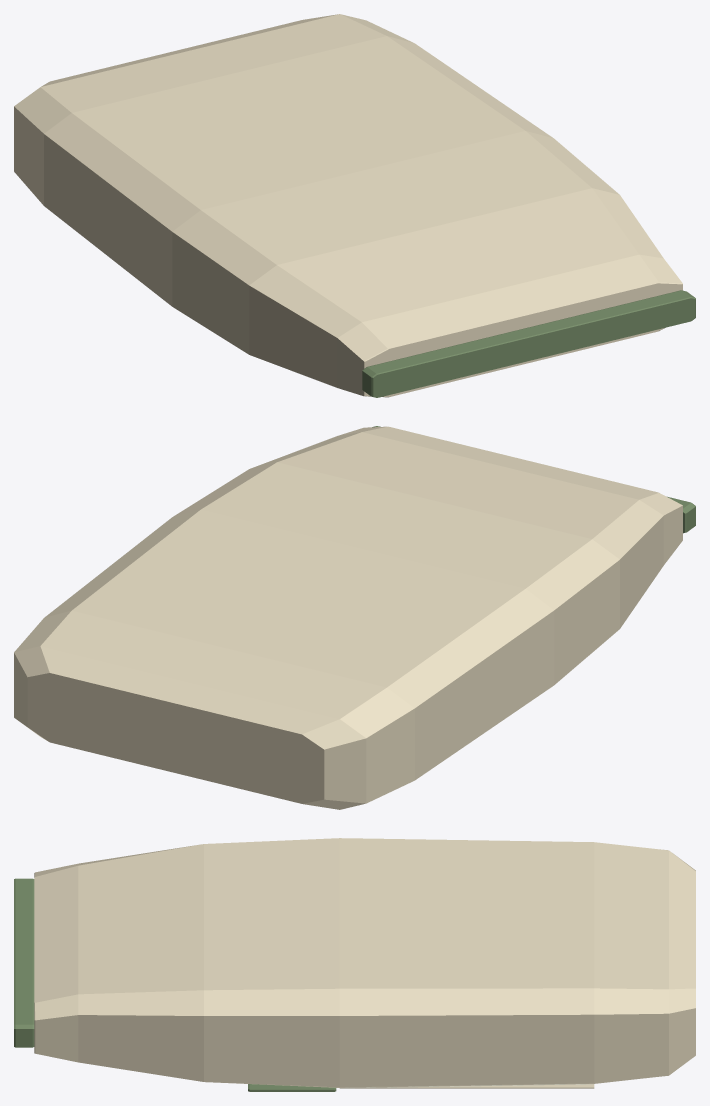
The model's file is fruit_leather.glb.
3 views of the same model, one above another, from view 1: azimuth 30°, elevation 25°; view 2: azimuth 150°, elevation 25°; view 3: azimuth 270°, elevation 25° (orthographic). The views are drawn at different scales.
Parts seen in each view (by area): view 1: fruit_leather; view 2: fruit_leather; view 3: fruit_leather.
Part boxes in pixels (left/top/right/bottom): fruit_leather: left=14, top=14, right=695, bottom=397; fruit_leather: left=14, top=426, right=695, bottom=809; fruit_leather: left=14, top=838, right=695, bottom=1091.
Bounding box in the file's own units: 0.0927 × 0.0257 × 0.1507.
